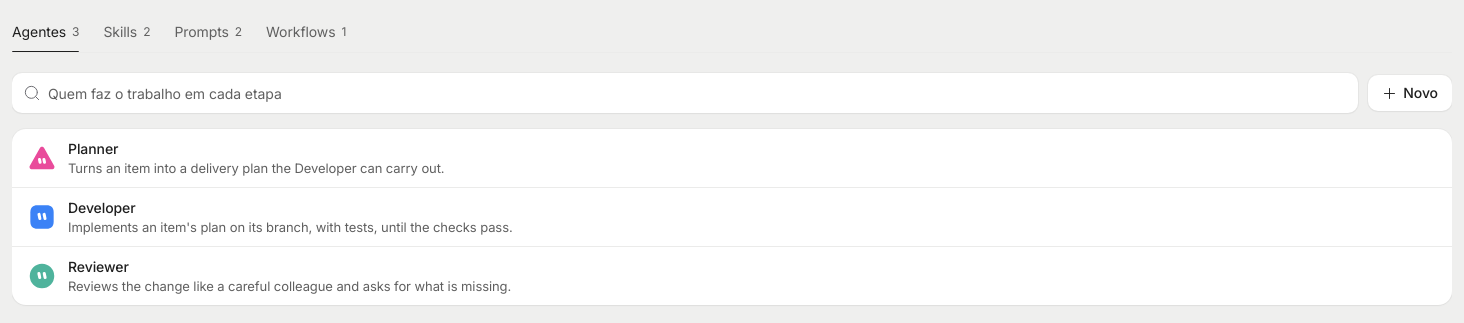
Test: biblioteca › a busca filtra por título, descrição e caminho
Expected: the list named "Agentes" is shown, [12,129,1452,305]
Type "colleague" into the field named "Buscar" at (697, 93), box [48,73,1346,113]
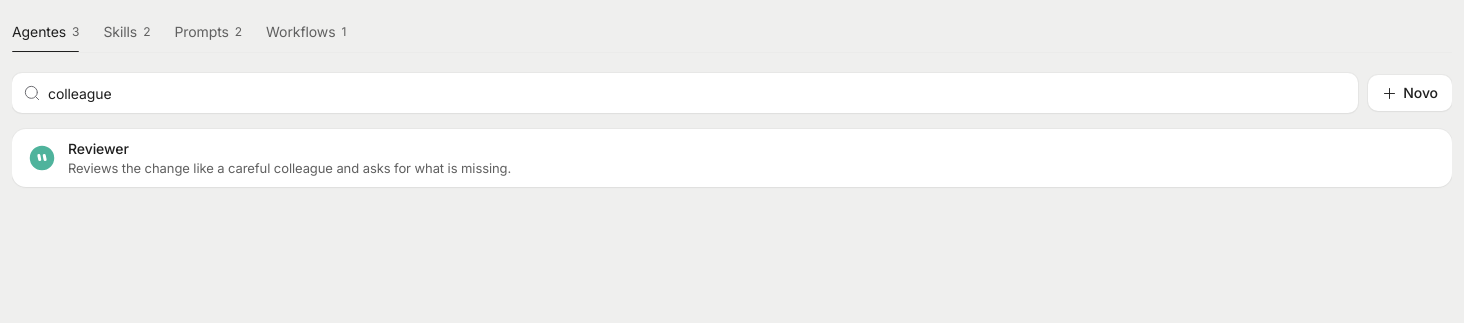
Now the number of list items is 1, box [12,129,1452,187]
Replace the text in the field named "Buscar" with "nada disso" at (697, 93), box [48,73,1346,113]
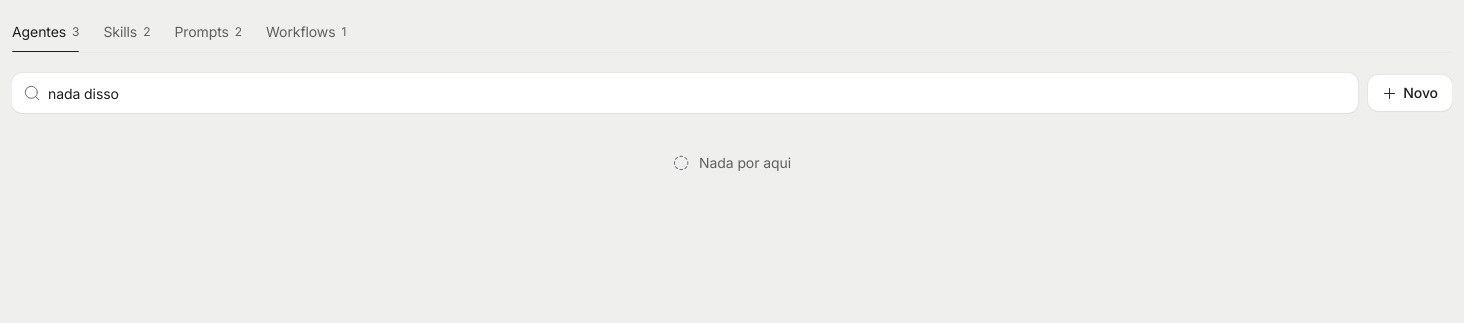
Now the text "Nada por aqui" is shown, box [699,153,791,173]
